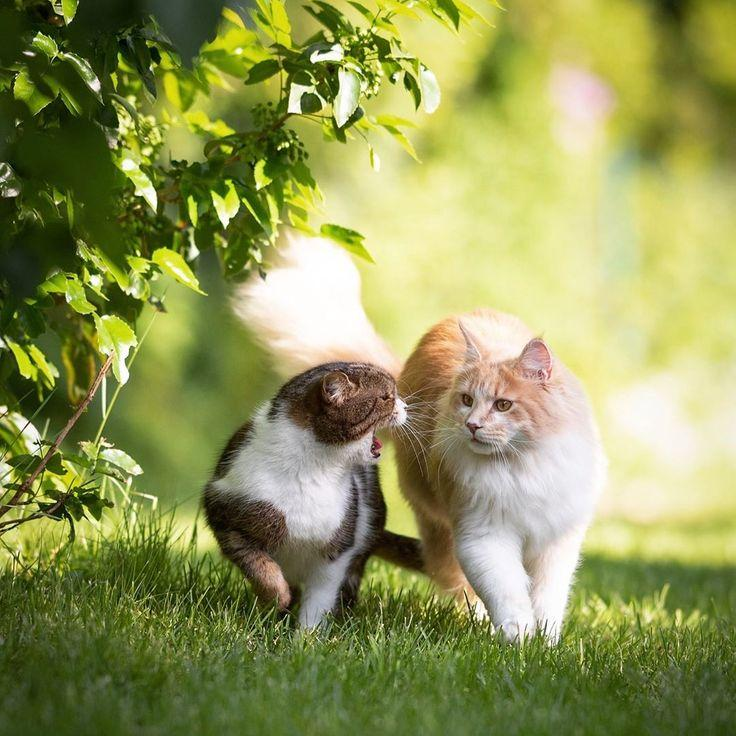kedo: (399, 305, 595, 644)
